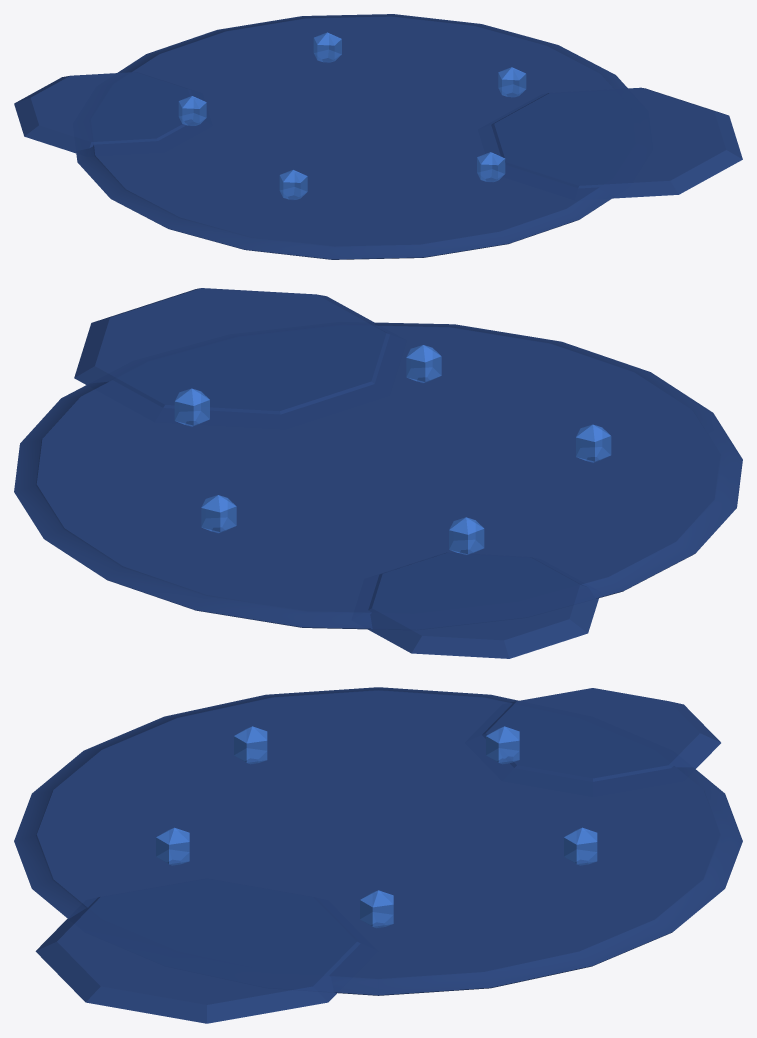
The model's file is ink_puddle.glb.
3 views of the same model, one above another, from view 1: azimuth 30°, elevation 25°; view 2: azimuth 150°, elevation 25°; view 3: azimuth 270°, elevation 25° (orthographic). The views are drawn at different scales.
Parts seen in each view (by area): view 1: puddle, splash_a, splash_b, drip_1, drip_4, drip_0, drip_2, drip_3; view 2: puddle, splash_a, splash_b, drip_0, drip_1, drip_4, drip_2, drip_3; view 3: puddle, splash_a, splash_b, drip_4, drip_0, drip_2, drip_3, drip_1.
Part boxes in pixels (x1=…): puddle: x1=76, y1=14, x2=627, y2=259; splash_a: x1=491, y1=87, x2=742, y2=198; splash_b: x1=14, y1=72, x2=192, y2=153; drip_1: x1=477, y1=152, x2=505, y2=182; drip_4: x1=313, y1=32, x2=341, y2=62; drip_0: x1=498, y1=67, x2=526, y2=97; drip_2: x1=279, y1=170, x2=307, y2=199; drip_3: x1=178, y1=96, x2=206, y2=125; puddle: x1=14, y1=322, x2=742, y2=629; splash_a: x1=74, y1=288, x2=390, y2=414; splash_b: x1=368, y1=552, x2=598, y2=658; drip_0: x1=174, y1=388, x2=209, y2=426; drip_1: x1=406, y1=345, x2=441, y2=382; drip_4: x1=201, y1=495, x2=236, y2=533; drip_2: x1=576, y1=424, x2=611, y2=462; drip_3: x1=449, y1=517, x2=484, y2=554; puddle: x1=14, y1=687, x2=742, y2=995; splash_a: x1=35, y1=878, x2=360, y2=1023; splash_b: x1=482, y1=688, x2=720, y2=781; drip_4: x1=564, y1=827, x2=597, y2=865; drip_0: x1=360, y1=890, x2=393, y2=928; drip_2: x1=234, y1=726, x2=267, y2=764; drip_3: x1=486, y1=726, x2=519, y2=764; drip_1: x1=156, y1=827, x2=189, y2=865.
Size of the model in its own units: 1.85 by 0.1105 by 1.7.
